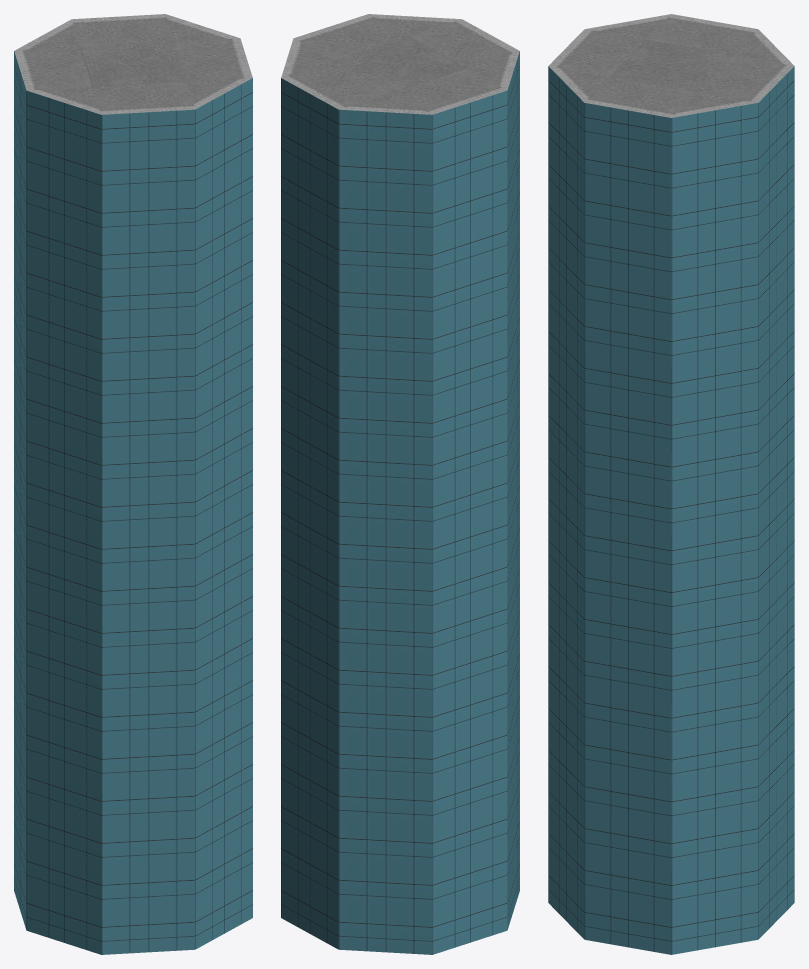
The picture shows the model from 3 angles, left to right: view 1: azimuth 30°, elevation 25°; view 2: azimuth 150°, elevation 25°; view 3: azimuth 270°, elevation 25°; orthographic projection.
Visible parts, largest first — view 1: Building_octagon; view 2: Building_octagon; view 3: Building_octagon.
Boxes of the visible parts, box(x1,y1,x2,y2) form: Building_octagon: box(14, 14, 252, 954); Building_octagon: box(281, 14, 519, 954); Building_octagon: box(548, 14, 794, 954).
Size of the model in its own units: 4000 by 15000 by 4000.
1 material, 1 textured.
